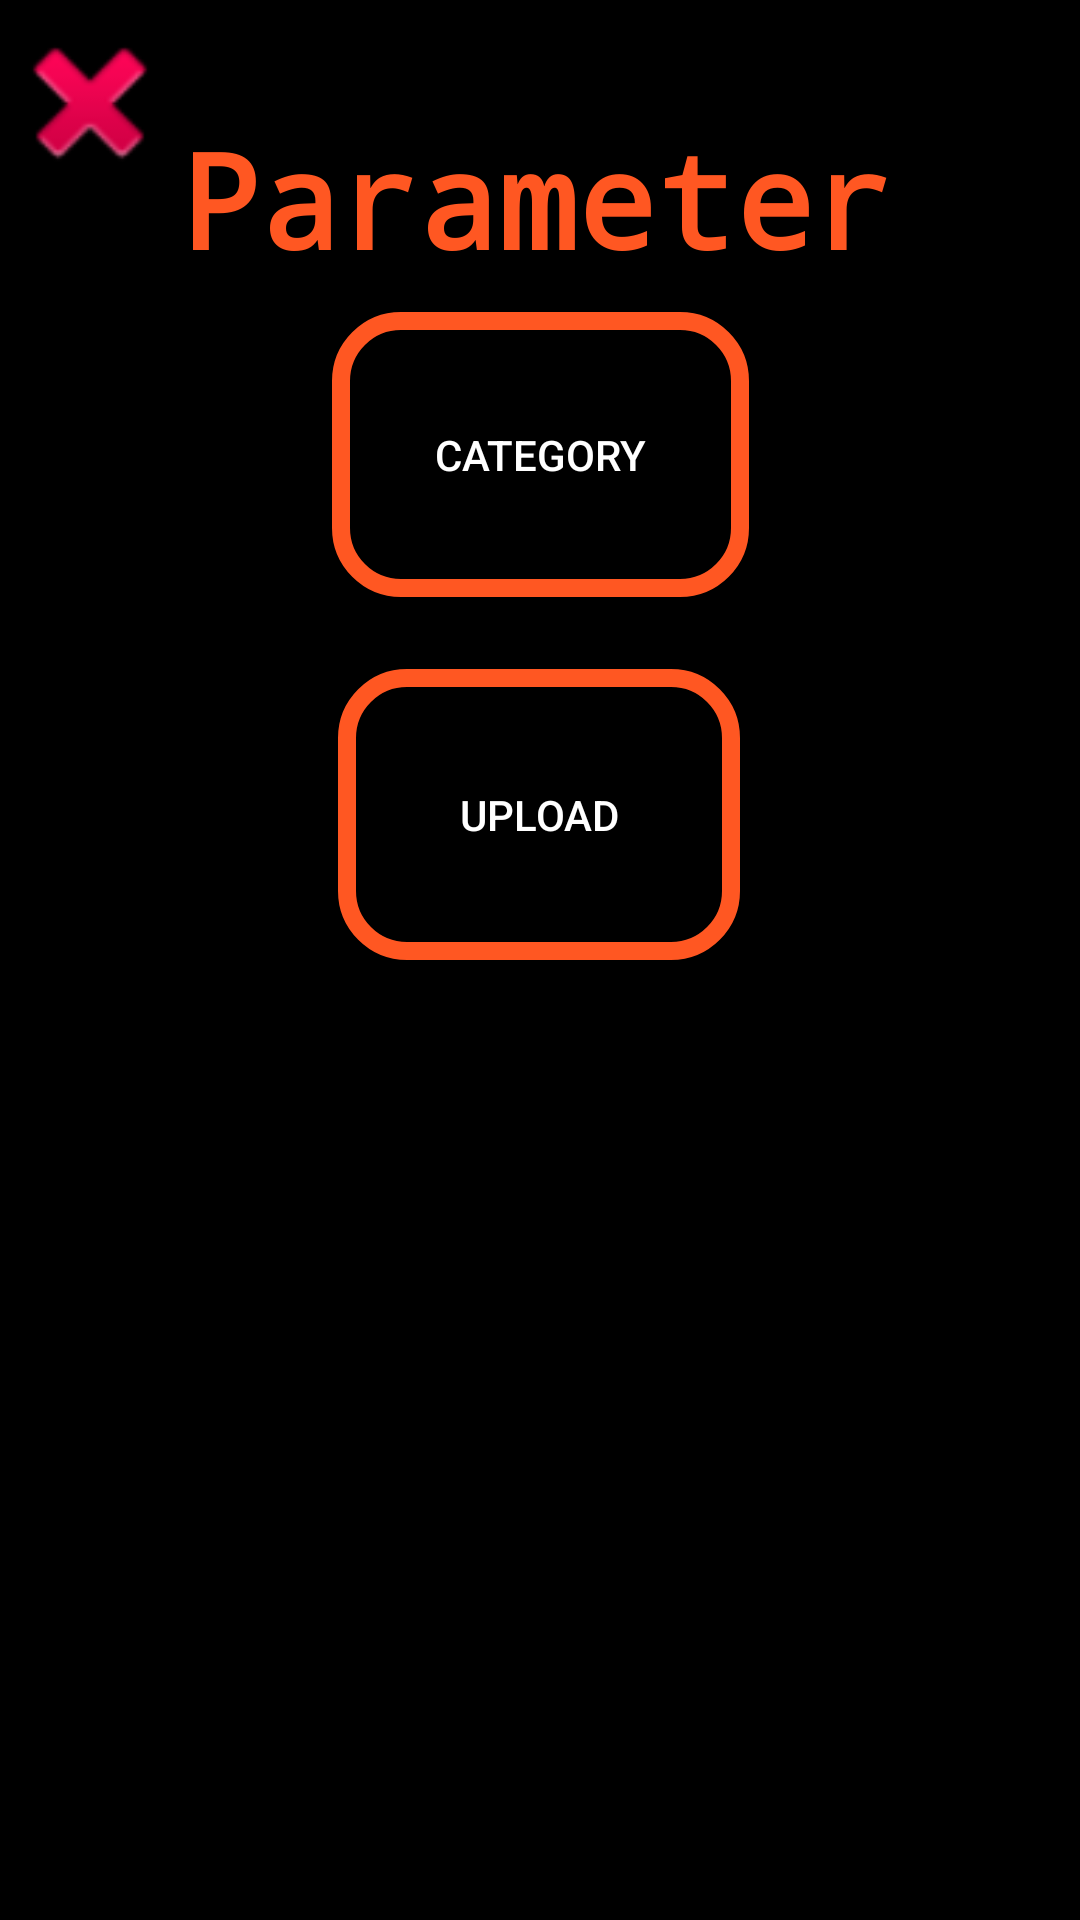

Icons on this 1080x1920 Android screen, each with its box as bbox=(x1, y1, x2, y2):
delete: bbox=(33, 48, 147, 159)
